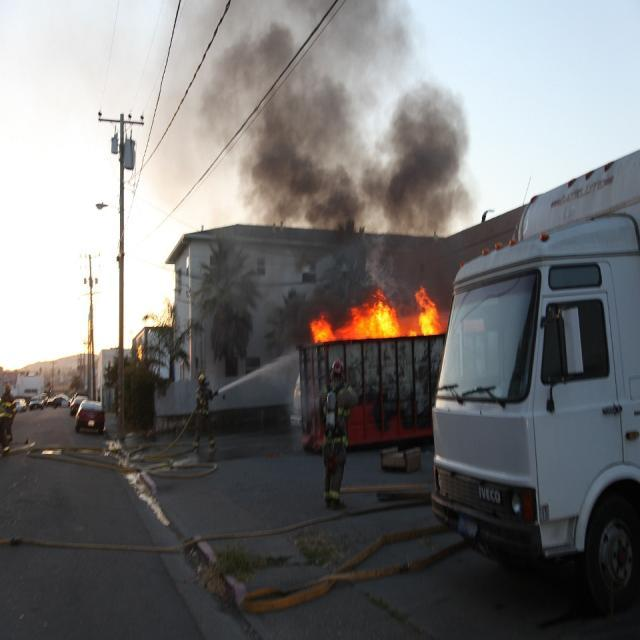Fire: (311, 288, 444, 342)
Smoke: (190, 2, 476, 312)
